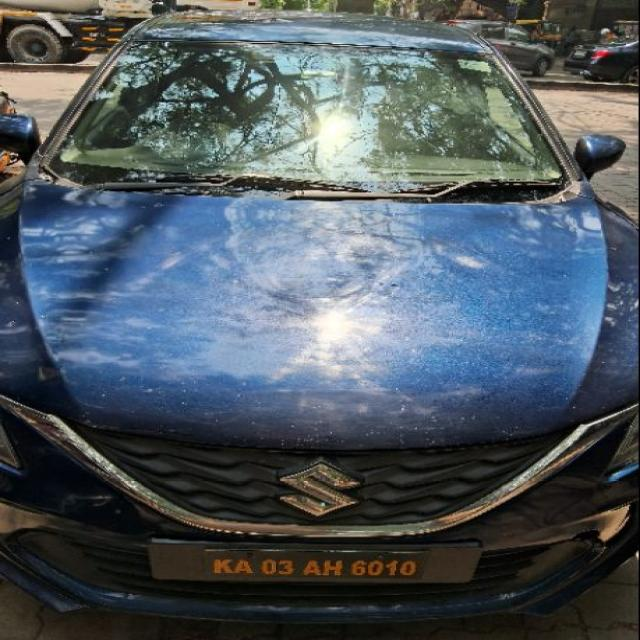license_plate: (145, 538, 482, 584)
